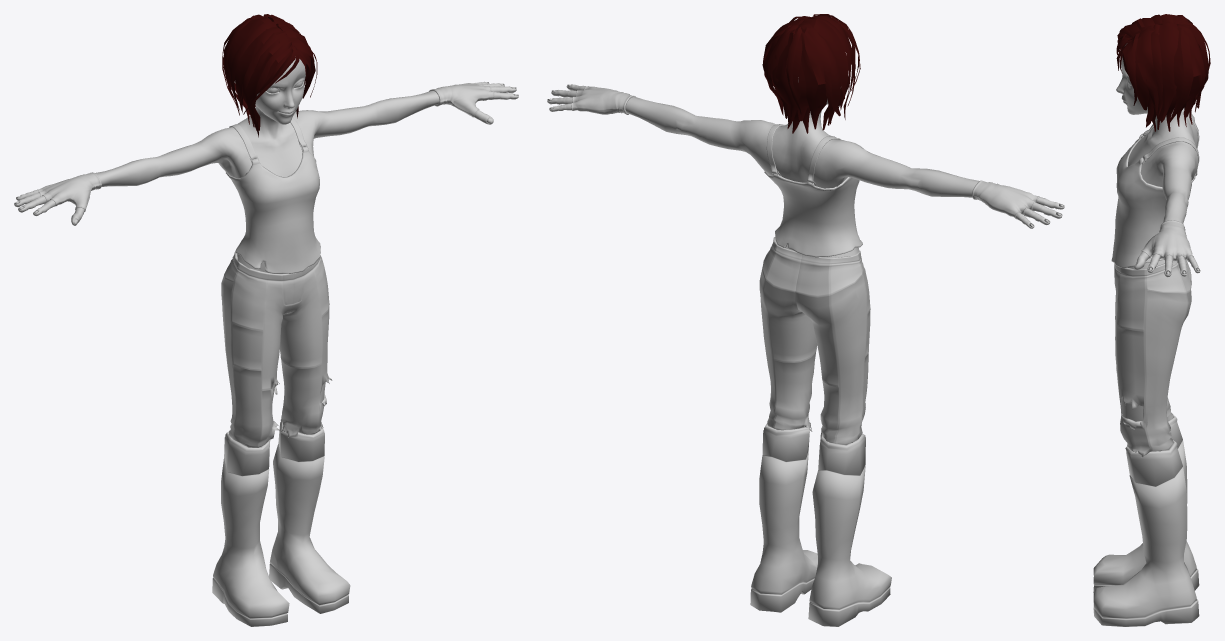
The model's file is Sintel_Lite_257b.obj.
3 views of the same model, side by side, from view 1: azimuth 30°, elevation 25°; view 2: azimuth 150°, elevation 25°; view 3: azimuth 270°, elevation 25° (orthographic). The views are drawn at different scales.
Visible parts, largest first — view 1: SINTEL_008, SINTEL_011, SINTEL_002, SINTEL_014, SINTEL_017, SINTEL_007; view 2: SINTEL_008, SINTEL_011, SINTEL_002, SINTEL_017, SINTEL_014, SINTEL_007; view 3: SINTEL_008, SINTEL_011, SINTEL_017, SINTEL_002, SINTEL_014, SINTEL_007, SINTEL_012, SINTEL_013.
Boxes of the visible parts, x1,y1,x2,y2 form: SINTEL_008: (212, 419, 350, 626); SINTEL_011: (221, 251, 332, 447); SINTEL_002: (14, 58, 518, 432); SINTEL_014: (231, 146, 320, 273); SINTEL_017: (222, 14, 317, 137); SINTEL_007: (38, 83, 494, 211); SINTEL_008: (750, 423, 891, 626); SINTEL_011: (759, 237, 870, 444); SINTEL_002: (547, 77, 1064, 257); SINTEL_017: (762, 14, 860, 133); SINTEL_014: (770, 174, 862, 257); SINTEL_007: (571, 86, 1039, 218); SINTEL_008: (1093, 412, 1199, 626); SINTEL_011: (1114, 259, 1191, 457); SINTEL_017: (1116, 14, 1210, 131); SINTEL_002: (1116, 43, 1200, 427); SINTEL_014: (1111, 133, 1195, 268); SINTEL_007: (1141, 220, 1193, 262); SINTEL_012: (1142, 116, 1199, 176); SINTEL_013: (1124, 133, 1195, 190).
Size of the model in its own units: 1.53 by 1.69 by 0.3075.
